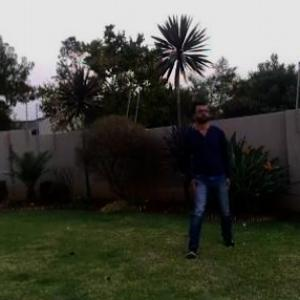follow: (177, 89, 236, 267)
